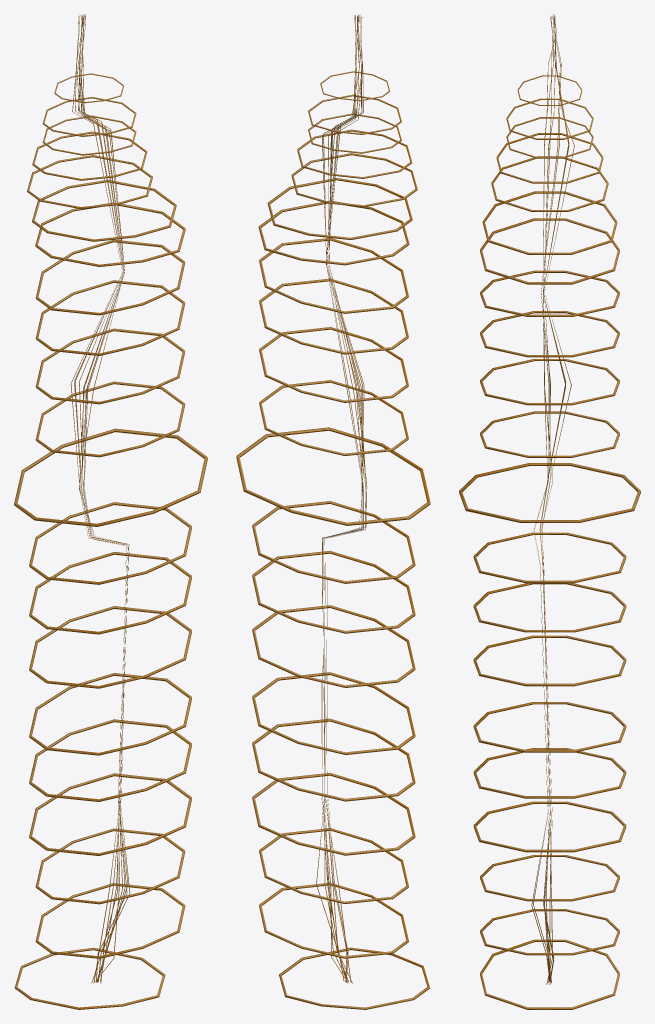
The model's file is metaltornado.fbx.
3 views of the same model, side by side, from view 1: azimuth 30°, elevation 25°; view 2: azimuth 150°, elevation 25°; view 3: azimuth 270°, elevation 25° (orthographic).
Visible parts, largest first — view 1: circle9, circle3, circle1, circle4, circle, circle2, circle8, circle12, circle5, circle13, circle11, circle6 (+18 smaller); view 2: circle9, circle3, circle1, circle, circle4, circle8, circle2, circle12, circle13, circle5, circle11, circle6 (+18 smaller); view 3: circle9, circle8, circle4, circle, circle2, circle7, circle1, circle14, circle3, circle15, circle10, circle6 (+16 smaller).
Boxes of the visible parts, x1,y1,x2,y2 form: circle9: (14, 428, 207, 526); circle3: (29, 719, 191, 801); circle1: (29, 552, 191, 634); circle4: (29, 773, 191, 855); circle: (29, 606, 191, 688); circle2: (29, 673, 191, 755); circle8: (29, 502, 191, 584); circle12: (35, 280, 184, 355); circle5: (35, 828, 185, 904); circle13: (35, 239, 184, 315); circle11: (35, 328, 184, 404); circle6: (35, 883, 185, 958); circle9: (236, 427, 430, 525); circle3: (252, 718, 415, 801); circle1: (252, 551, 415, 633); circle: (252, 605, 415, 687); circle4: (252, 773, 415, 855); circle8: (252, 501, 415, 583); circle2: (252, 672, 415, 754); circle12: (259, 278, 408, 354); circle13: (259, 238, 408, 313); circle5: (259, 828, 408, 903); circle11: (259, 327, 408, 402); circle6: (259, 883, 408, 958); circle9: (459, 463, 640, 522); circle8: (473, 532, 626, 583); circle4: (473, 801, 626, 852); circle: (473, 635, 626, 686); circle2: (473, 702, 626, 752); circle7: (480, 939, 619, 1009); circle1: (473, 583, 626, 632); circle14: (480, 218, 619, 284); circle3: (473, 748, 626, 798); circle15: (482, 191, 617, 254); circle10: (480, 411, 619, 457); circle6: (480, 909, 619, 955).
Bounding box in the file's own units: 3.2 × 17.35 × 2.97.
